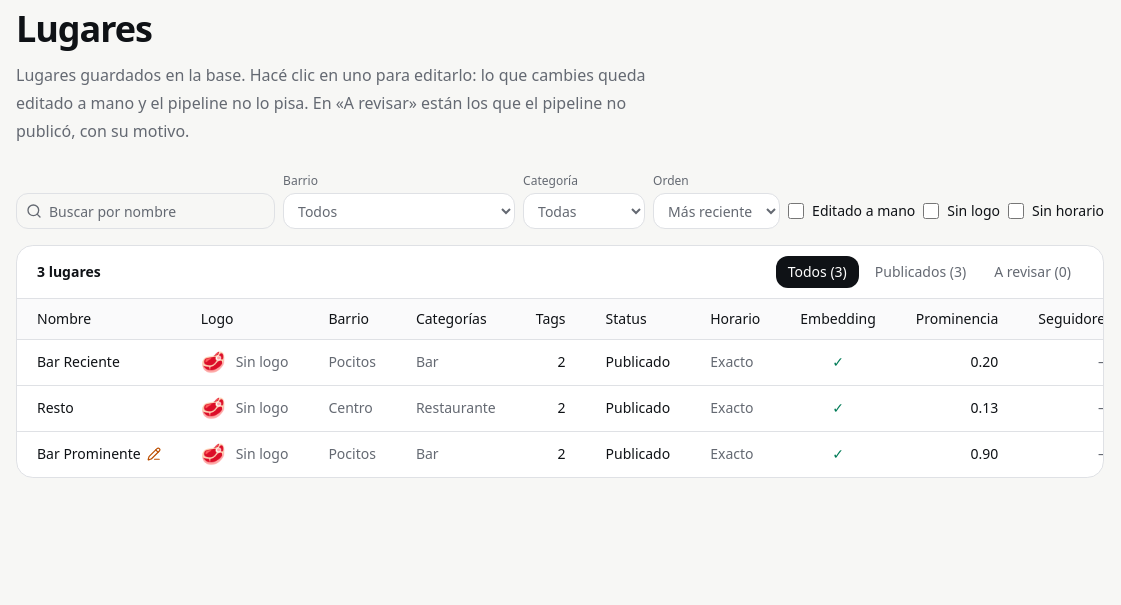
Test: SavedPlacesPage › filtra por barrio, categoría y editado a mano, y ordena; sin resultados avisa
expect the text "3 lugares" is shown: met, box [37, 262, 101, 282]
Select "Pocitos" in the dropdown labelled "Barrio": (399, 211) [283, 193, 515, 229]
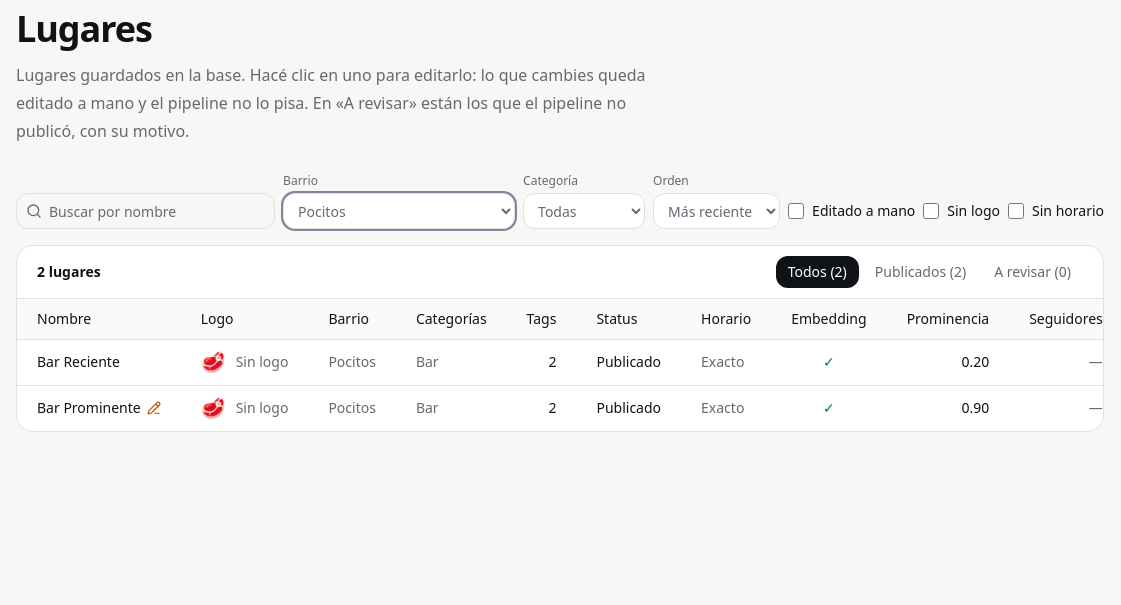
Select "Prominencia" in the dropdown labelled "Orden": (717, 211) [653, 193, 780, 229]
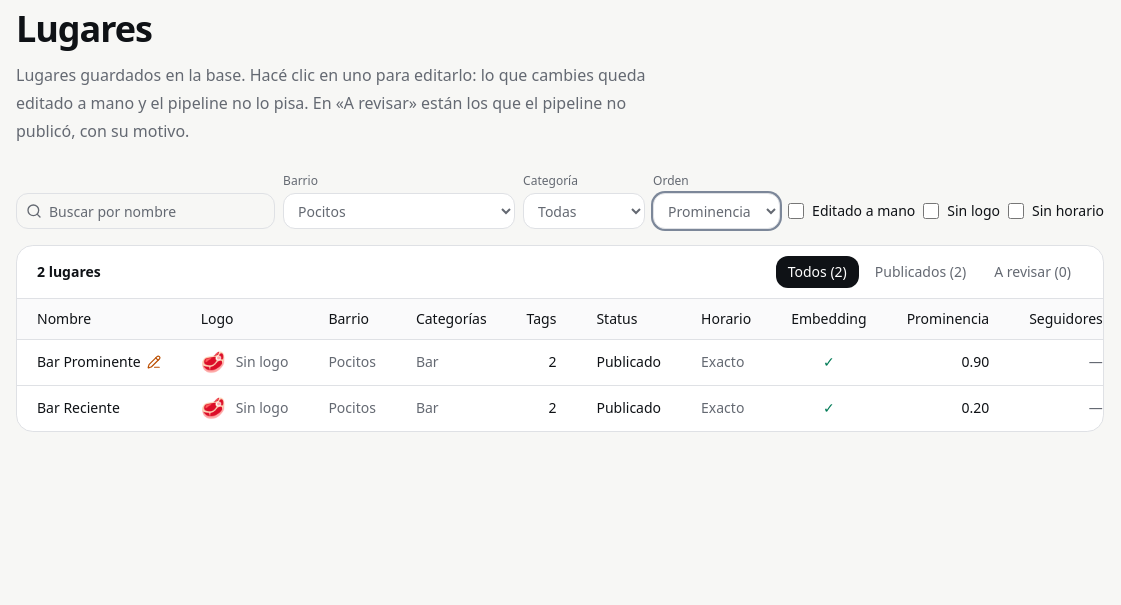
Click the checkbox labelled "Editado a mano": (796, 211) [788, 203, 804, 219]
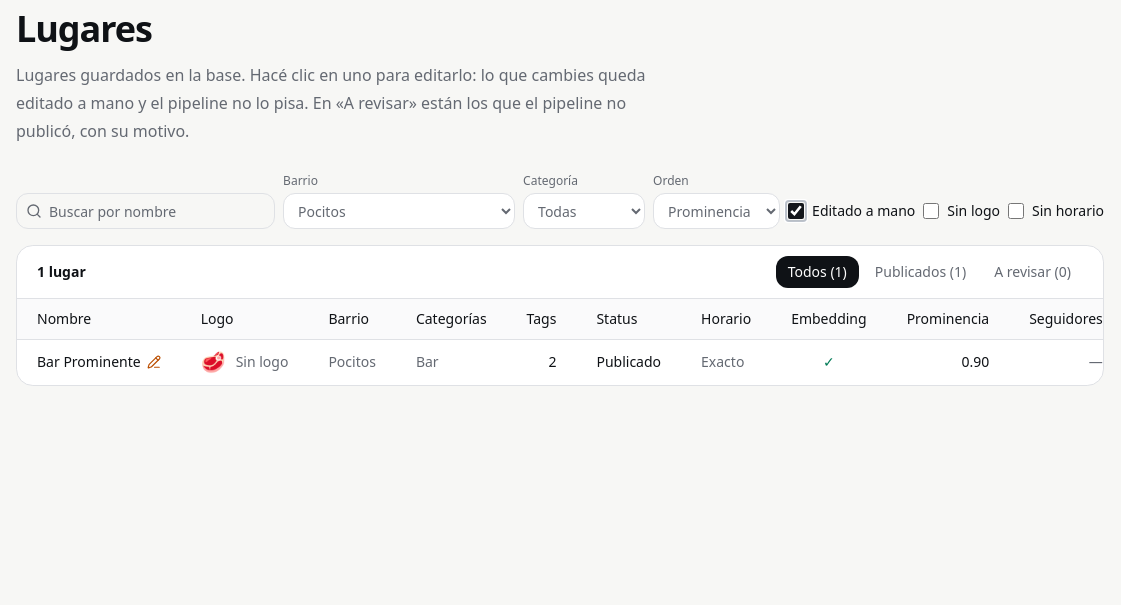
Select "Café" in the dropdown labelled "Categoría": (584, 211) [523, 193, 645, 229]
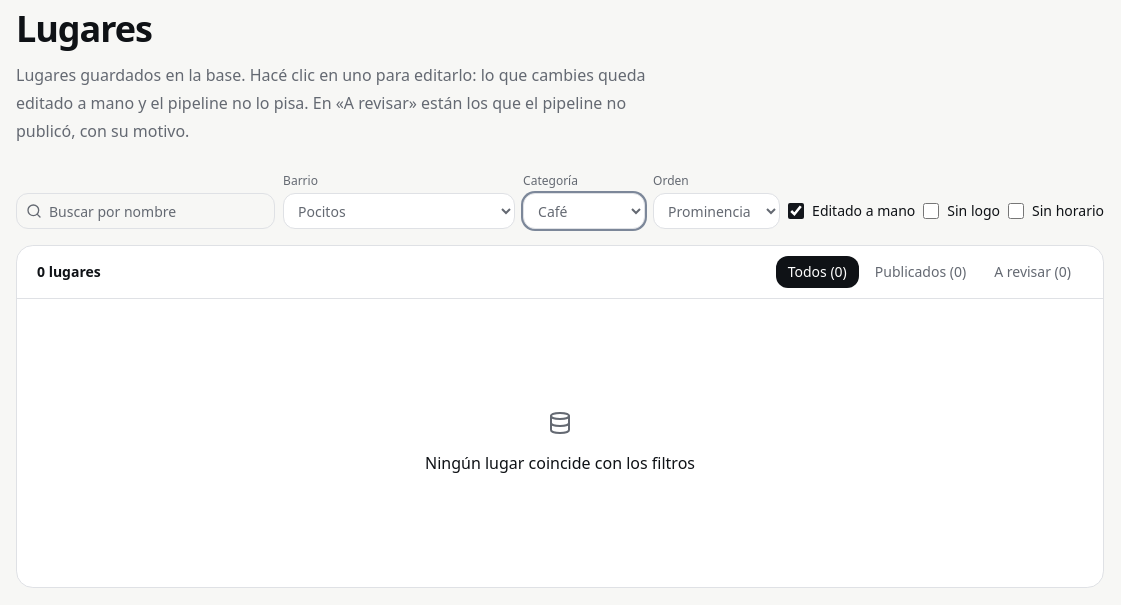
expect the text "Ningún lugar coincide con los filtros" is shown: met, box [425, 451, 695, 475]
